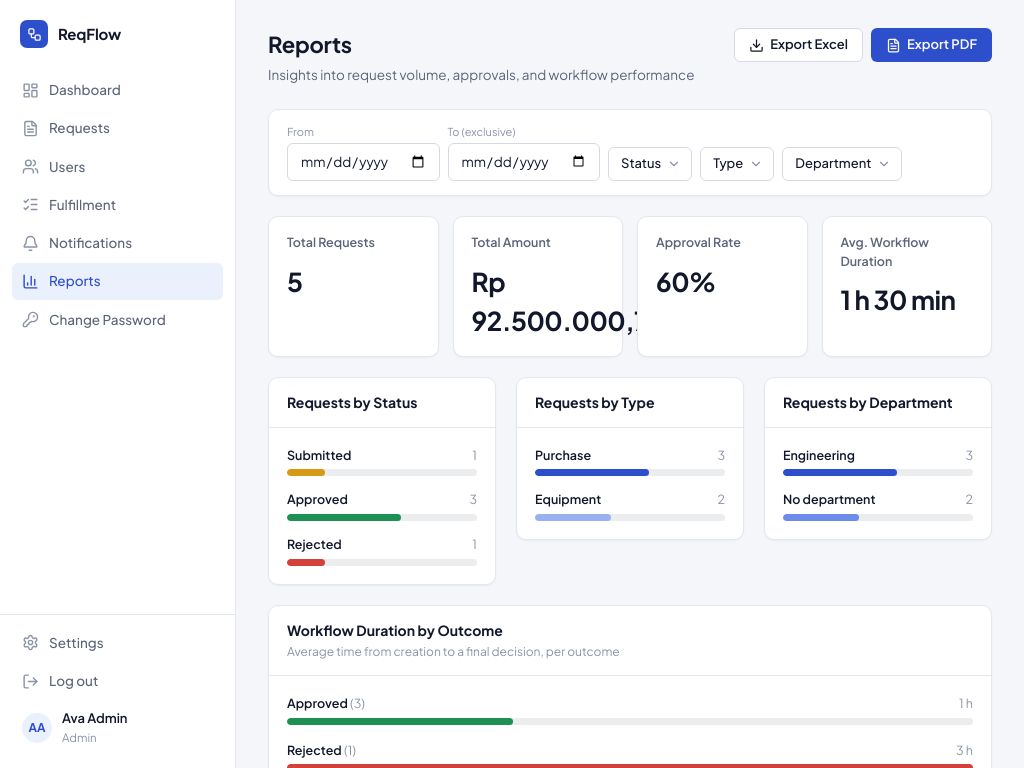
Test: ReportsPage › a failed export renders a controlled error message, not a silent failure
Check: the text "Total Requests" is shown, box [287,233,375,252]
Click the button "Export Excel".
click(799, 45)  # box [734,28,863,62]
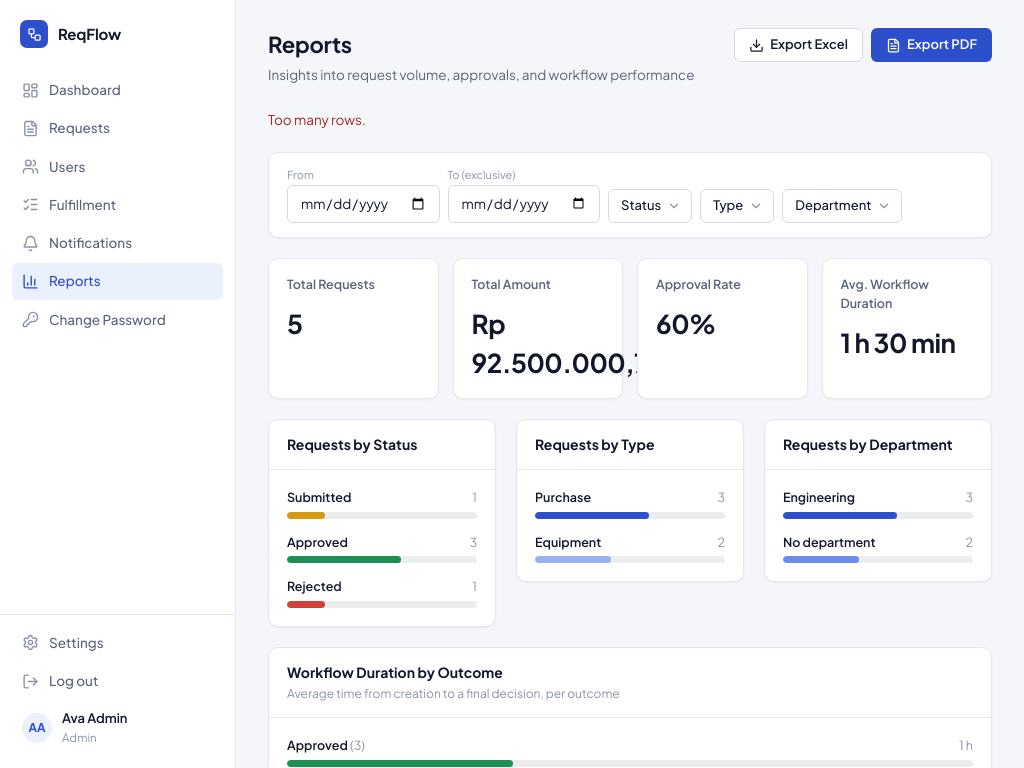
Check: the message reads "Too many rows.", box [268,111,366,128]
